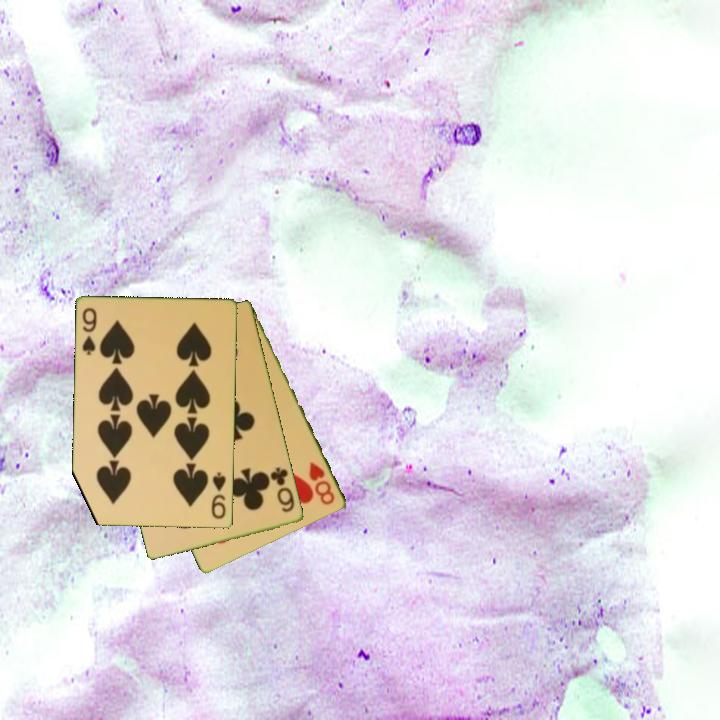6c: (267, 464, 298, 515)
8h: (306, 458, 338, 508)
9s: (79, 304, 100, 358), (208, 469, 229, 522)
